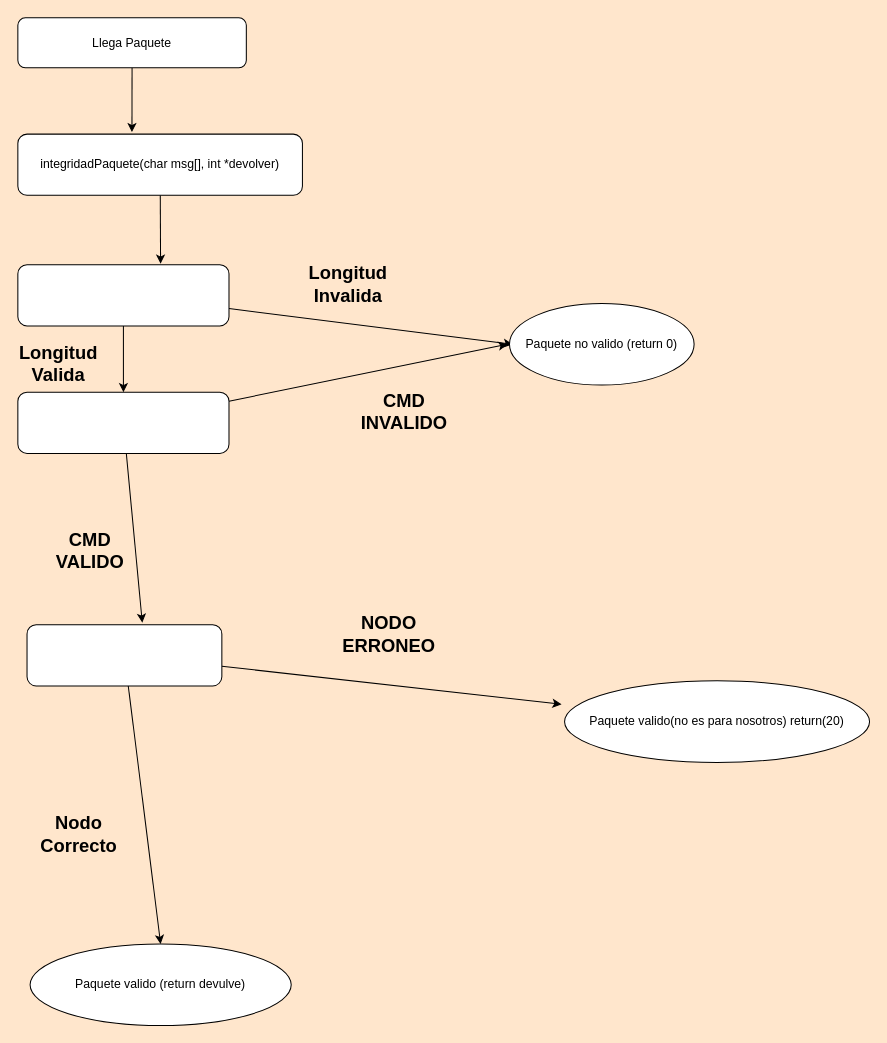
The diagram is 887 pixels wide and 1043 high, and some of its shapes have lost their labels. The shapes that lost their labels are listed below. From the top down, each one's centre as x and y in pixels, then its label:
(x=123, y=295): Comprobamos longitud de paquete
(x=123, y=422): Comprobamos CMD valido
(x=124, y=655): Comprobamos nodo de destino
